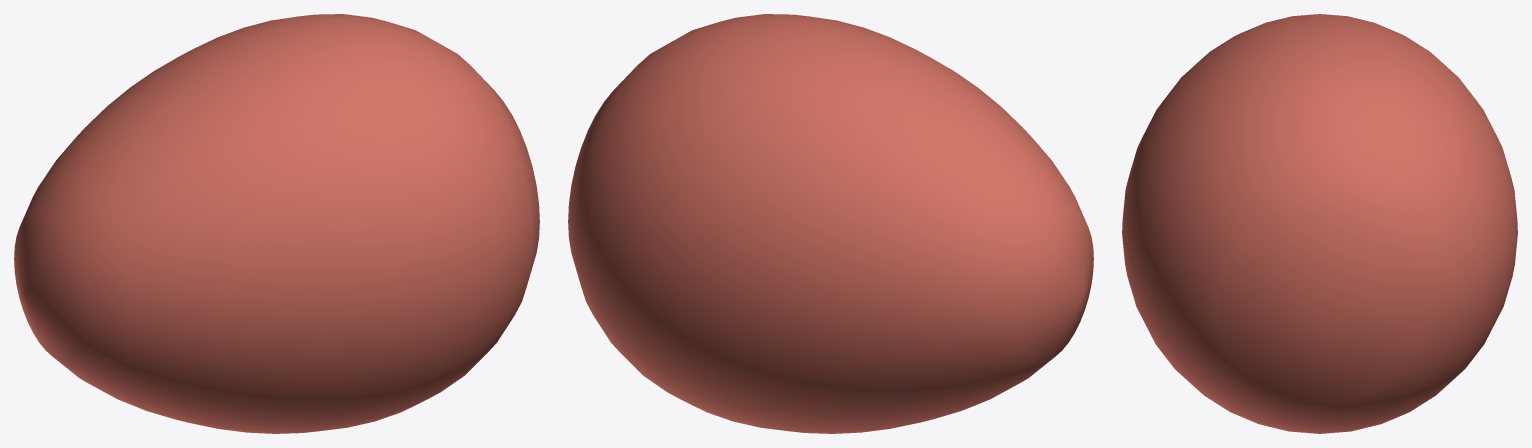
Rendered from food_egg.glb.
3 views of the same model, side by side, from view 1: azimuth 30°, elevation 25°; view 2: azimuth 150°, elevation 25°; view 3: azimuth 270°, elevation 25° (orthographic). The views are drawn at different scales.
Visible parts, largest first — view 1: PART; view 2: PART; view 3: PART.
Part boxes in pixels (bbox=[...]): PART: bbox=[14, 14, 539, 433]; PART: bbox=[568, 14, 1093, 433]; PART: bbox=[1122, 14, 1517, 433].
Size of the model in its own units: 0.058 by 0.0428 by 0.0428.
